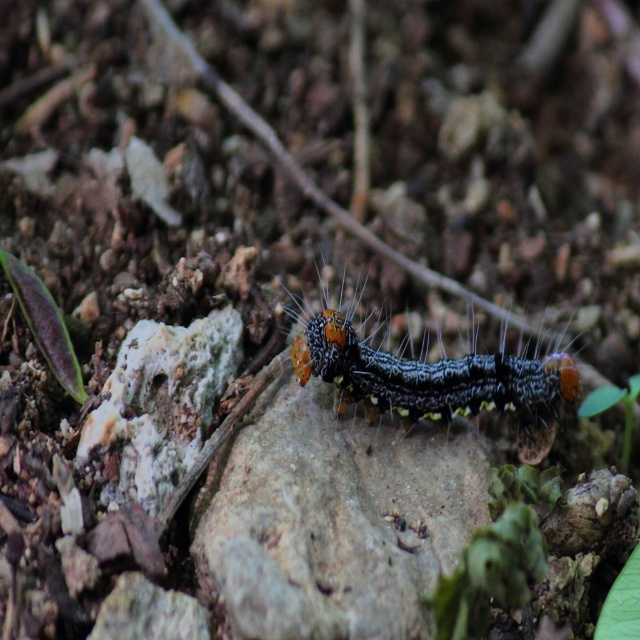Caterpillar: (269, 240, 592, 451)
